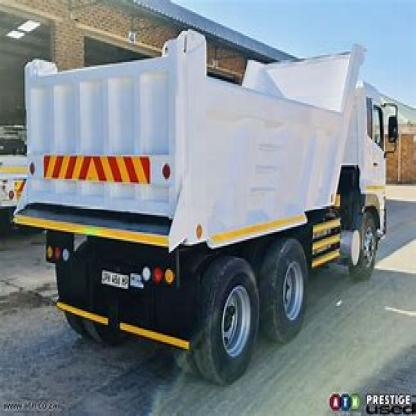dump_truck: (1, 16, 404, 384)
